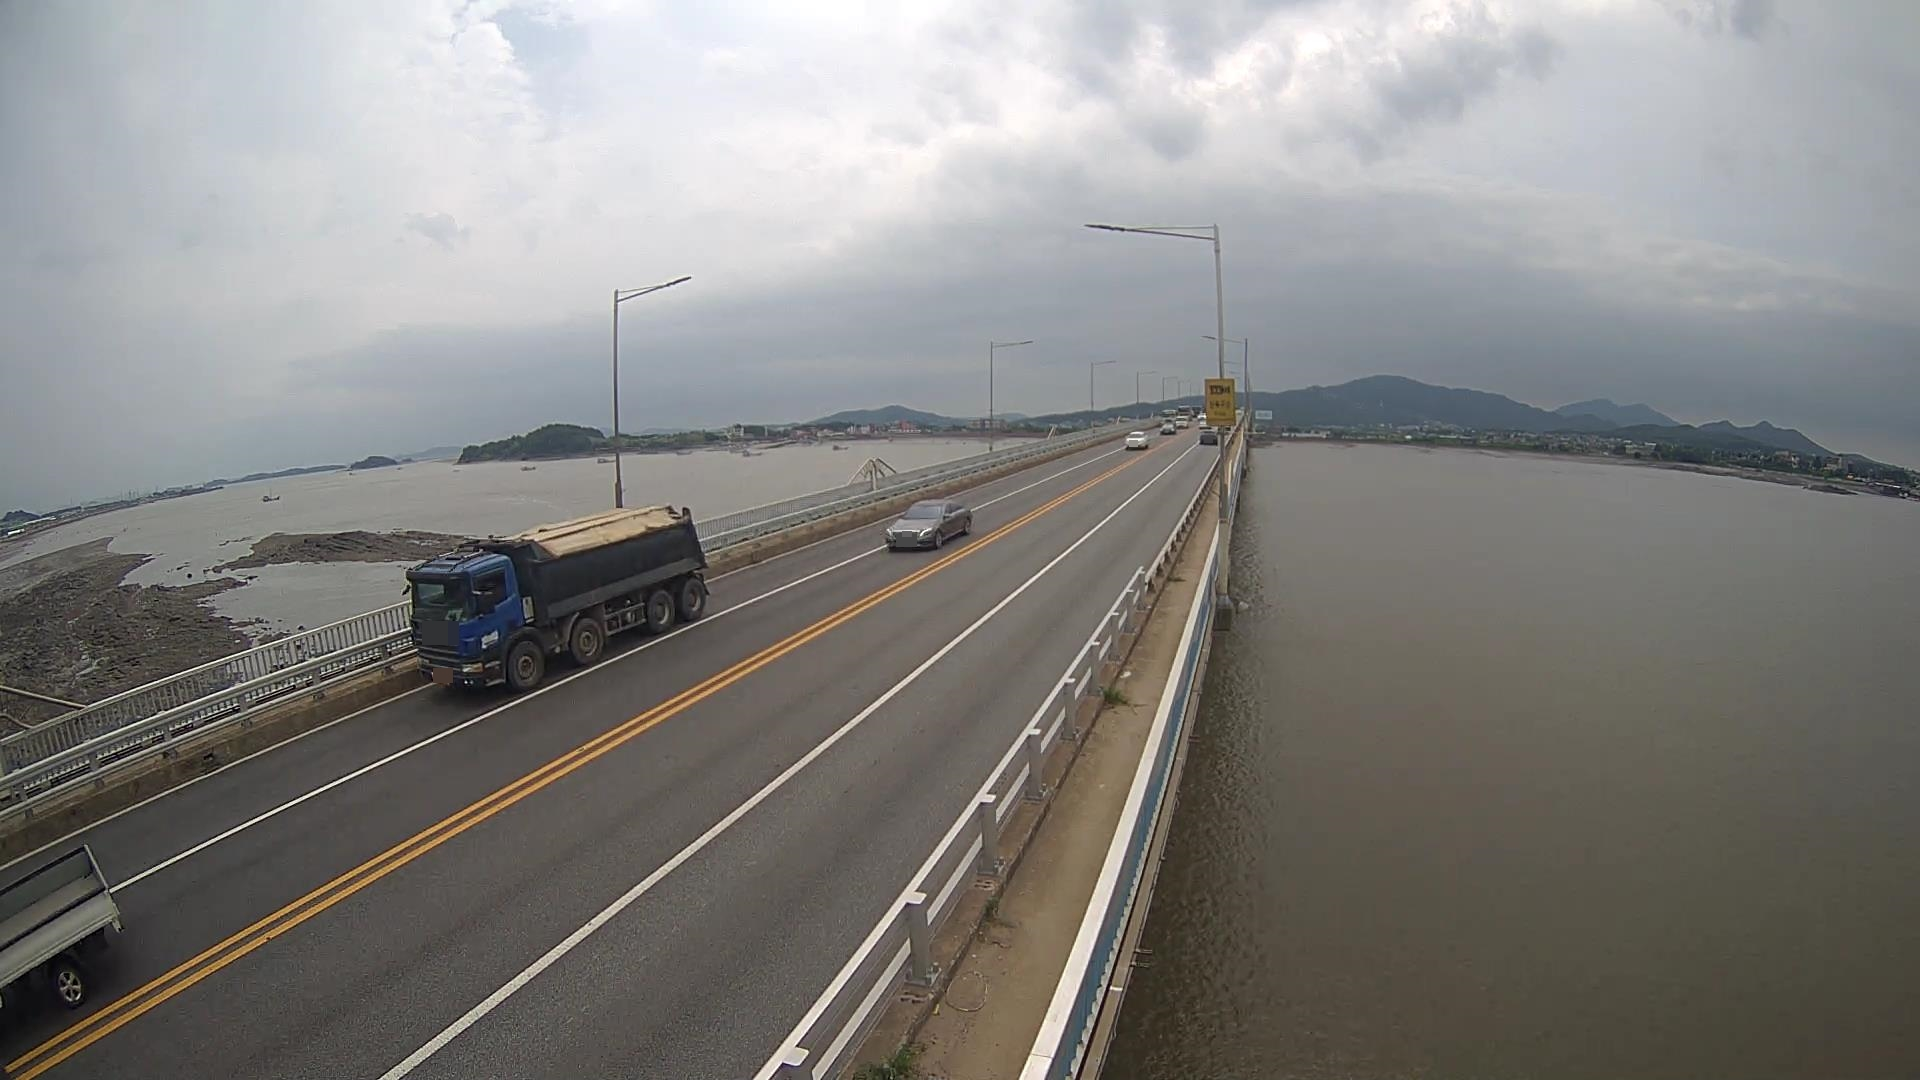정상차량: (402, 505, 710, 695)
